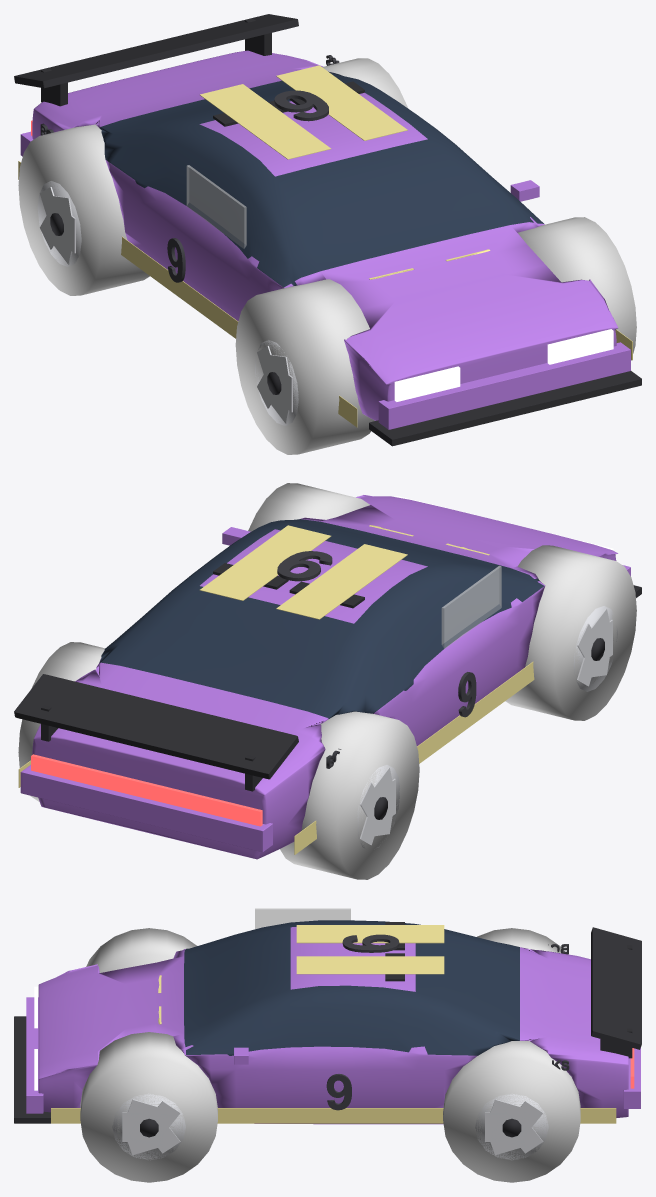
File: car_5.glb
3 views of the same model, one above another, from view 1: azimuth 30°, elevation 25°; view 2: azimuth 150°, elevation 25°; view 3: azimuth 270°, elevation 25° (orthographic). The views are drawn at different scales.
Parts seen in each view (by area): view 1: body, cutter, cutter.002, bumperF, cutter.001, spoiler, splitter, roofL, roofR, net, sideS, cutter.003 (+6 smaller); view 2: body, cutter.002, cutter, spoiler, bumperR, tail, roofL, roofR, cutter.001, sideS, net, cutter.003 (+4 smaller); view 3: body, cutter.001, cutter.003, spoiler, sideS.001, cutter, roofR, roofL, splitter, rim.001, rim.003, net (+16 smaller).
Boxes of the visible parts, left/top/right/bottom form: body: left=32, top=50, right=618, bottom=420; cutter: left=235, top=279, right=374, bottom=454; cutter.002: left=18, top=124, right=149, bottom=295; bumperF: left=378, top=342, right=630, bottom=429; cutter.001: left=518, top=217, right=636, bottom=360; spoiler: left=14, top=14, right=298, bottom=88; splitter: left=369, top=371, right=641, bottom=446; roofL: left=200, top=84, right=331, bottom=159; roofR: left=276, top=65, right=407, bottom=140; net: left=186, top=165, right=246, bottom=248; sideS: left=18, top=161, right=357, bottom=427; cutter.003: left=322, top=58, right=407, bottom=107; body: left=32, top=495, right=617, bottom=859; cutter.002: left=280, top=711, right=419, bottom=879; cutter: left=505, top=545, right=636, bottom=720; spoiler: left=14, top=674, right=298, bottom=779; bumperR: left=20, top=765, right=272, bottom=851; tail: left=31, top=754, right=262, bottom=826; roofL: left=276, top=544, right=407, bottom=619; roofR: left=199, top=525, right=331, bottom=600; cutter.001: left=248, top=483, right=369, bottom=531; sideS: left=294, top=661, right=534, bottom=854; net: left=441, top=565, right=501, bottom=648; cutter.003: left=18, top=642, right=104, bottom=801; body: left=38, top=920, right=628, bottom=1124; cutter.001: left=80, top=1032, right=217, bottom=1182; cutter.003: left=443, top=1040, right=580, bottom=1182; spoiler: left=591, top=927, right=641, bottom=1049; sideS.001: left=51, top=1108, right=616, bottom=1123; cutter: left=86, top=928, right=196, bottom=972; roofR: left=296, top=956, right=444, bottom=974; roofL: left=296, top=925, right=444, bottom=943; splitter: left=14, top=1016, right=50, bottom=1123; rim.001: left=112, top=1093, right=185, bottom=1160; rim.003: left=475, top=1093, right=548, bottom=1160; net: left=255, top=908, right=350, bottom=929.
Bounding box in the file's own units: 2.56 × 1.57 × 5.11.
